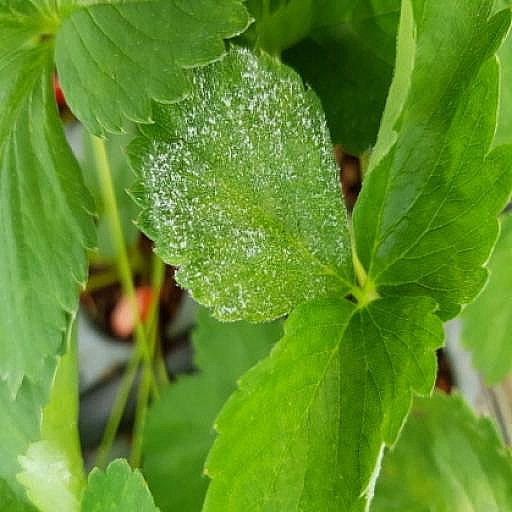Powdery Mildew Leaf: (155, 187, 391, 471)
